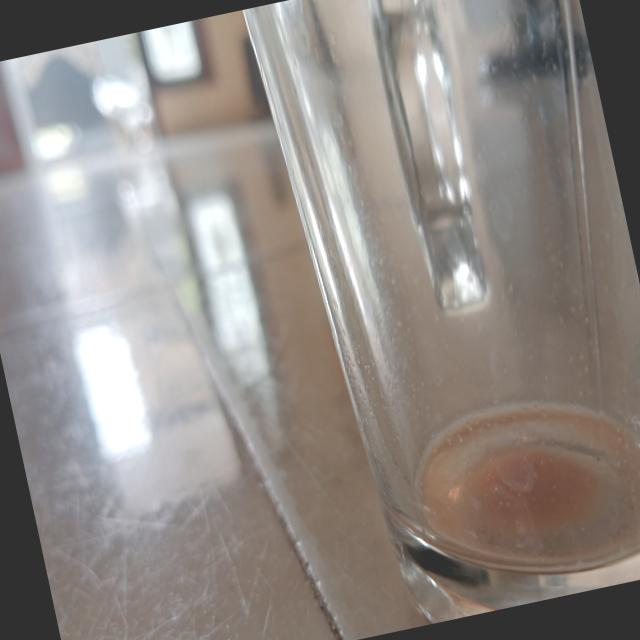glass-VX4N: (233, 0, 640, 637)
